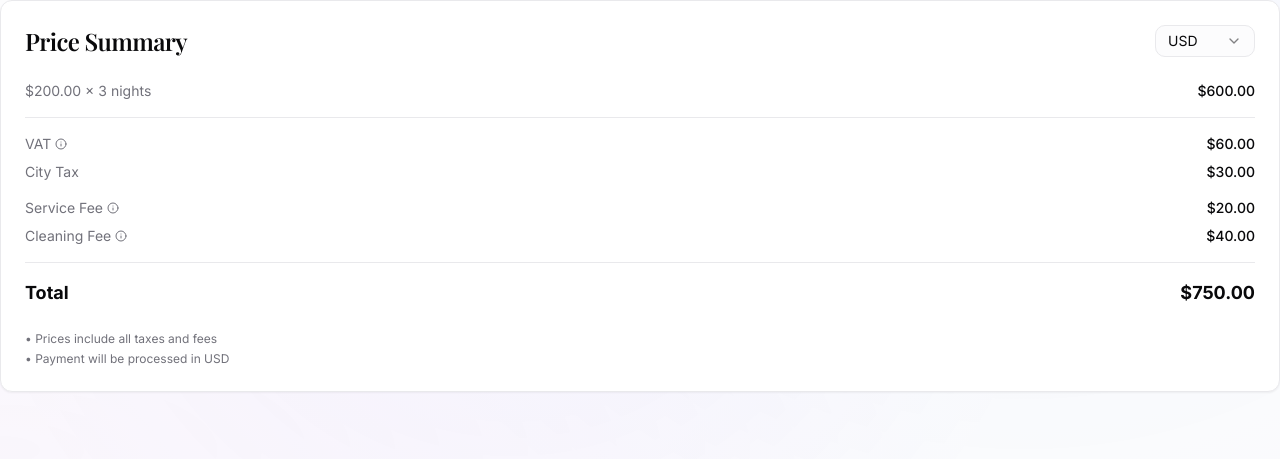
Test: PricingSummary Component › Currency Conversion › should display converted pricing when selected
This screenshot has width=1280, height=459.
Click the dropdown.
click(1205, 41)  # box [1155,25,1255,57]
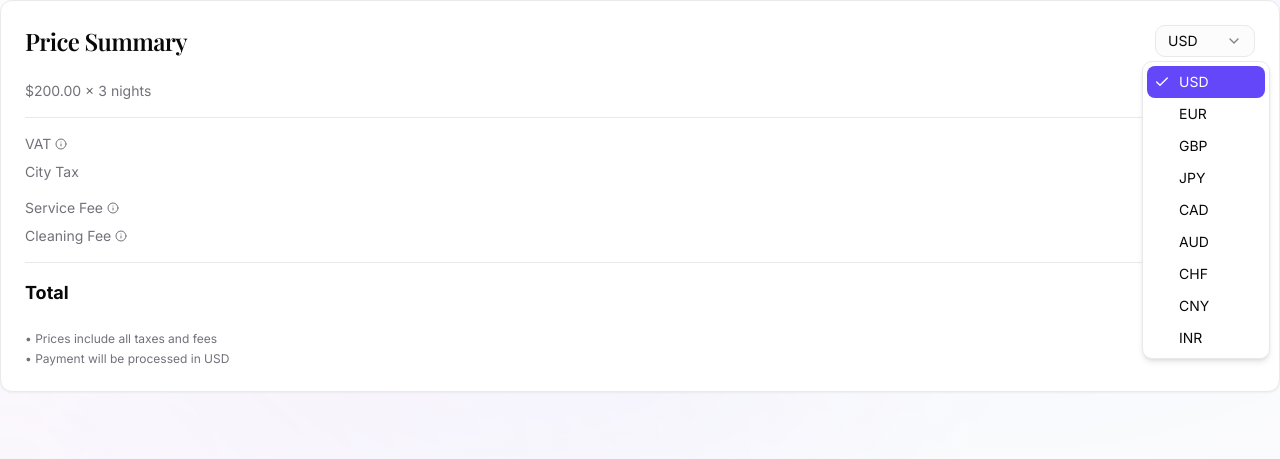
Click the option "EUR".
click(1193, 114)  # box [1179,105,1207,122]
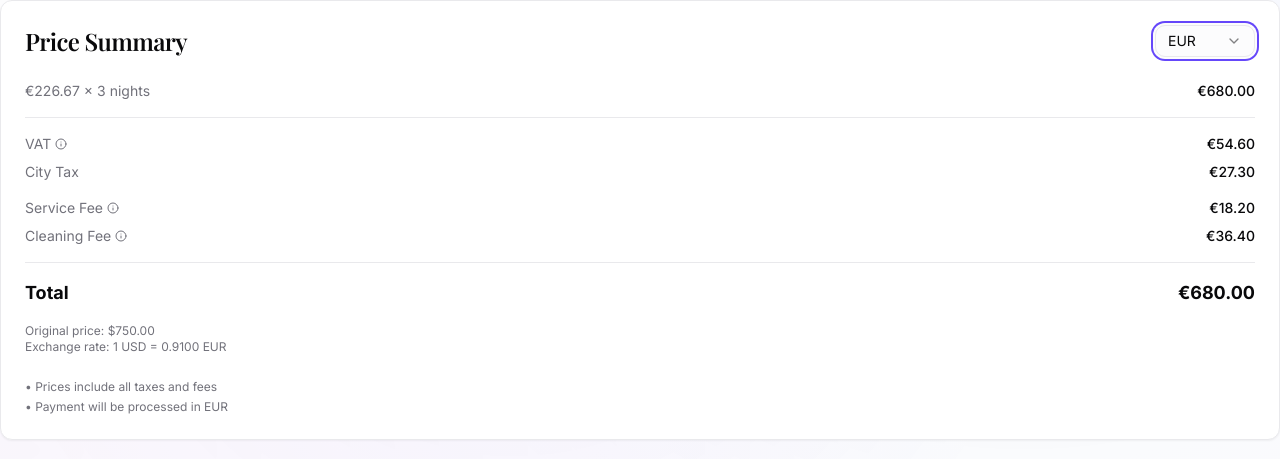
Expected: the text "Original price: $750.00Exchange rate: 1 USD = 0.9100 EUR" is shown, [25,323,226,354]
